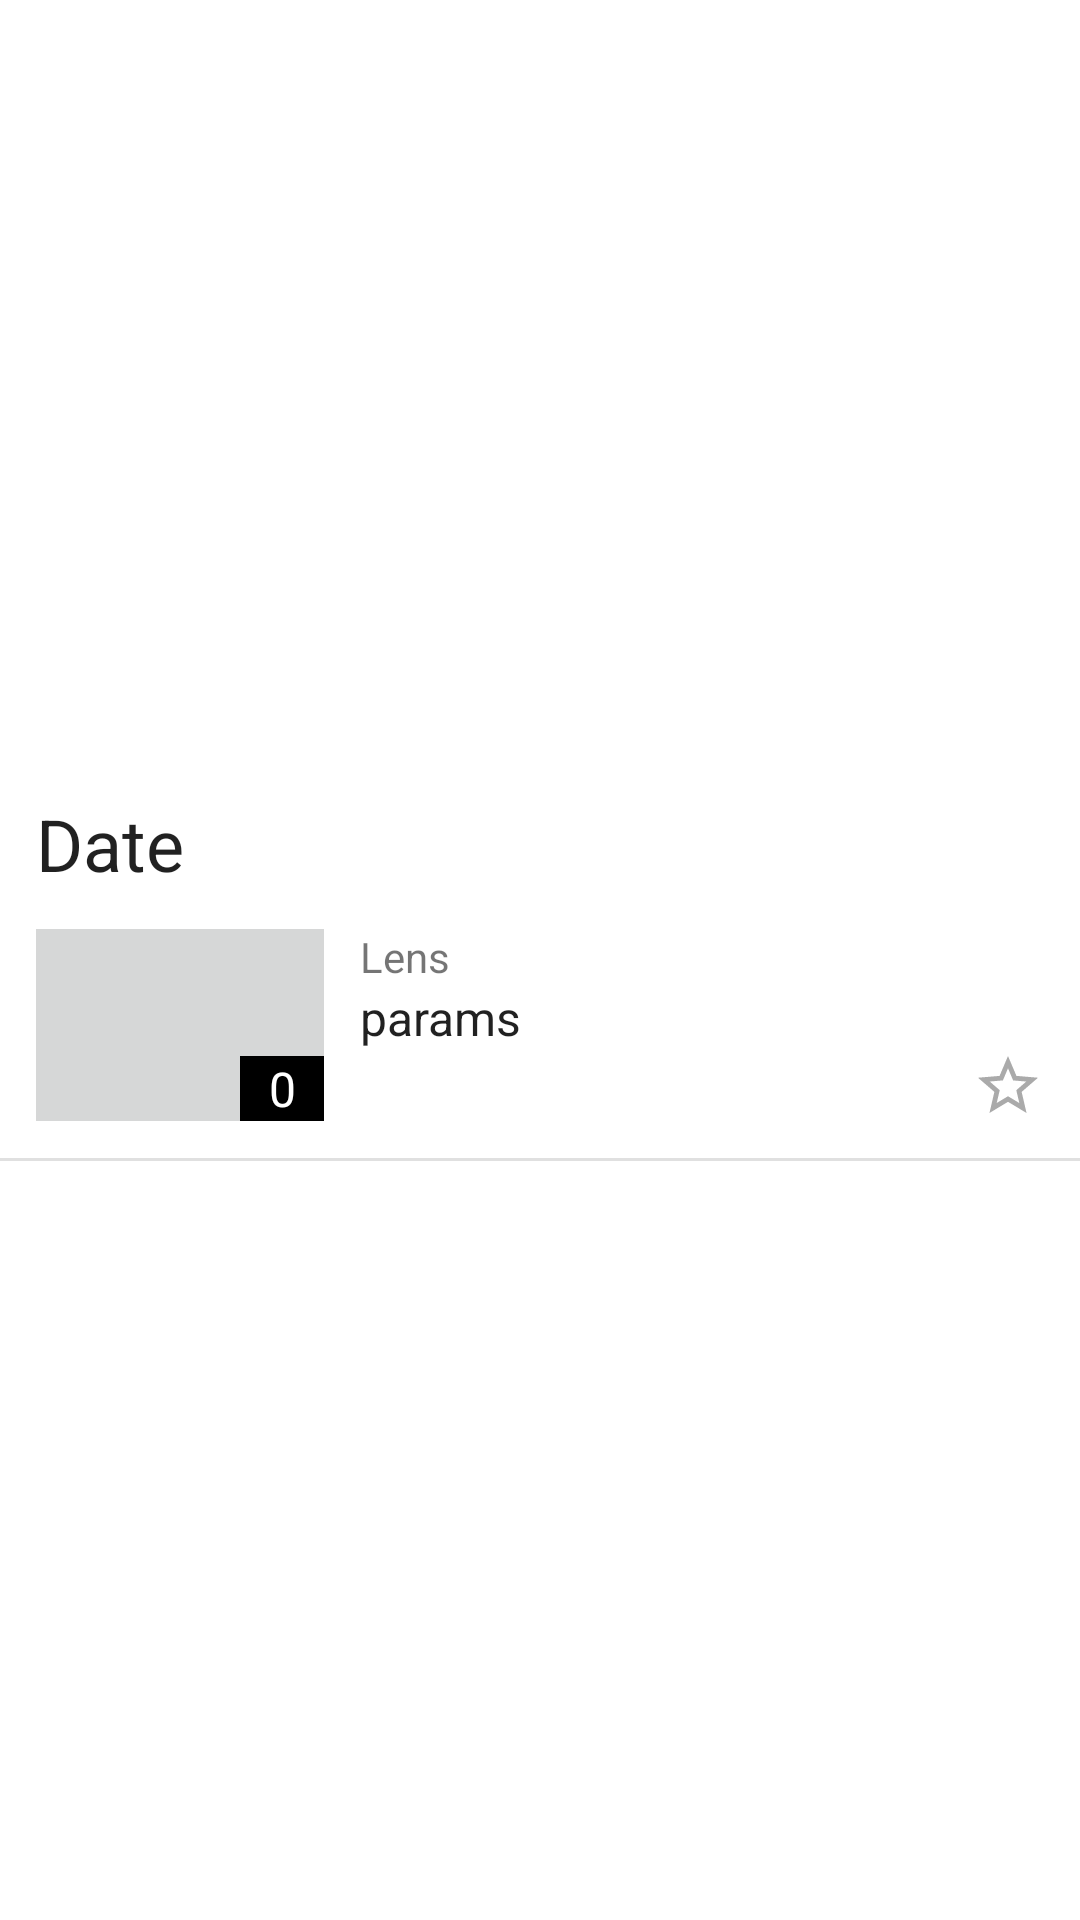

Point at icon controls on the screen. Image size 1080x1920, points as point (x, y).
fav border: point (1008, 1085)
